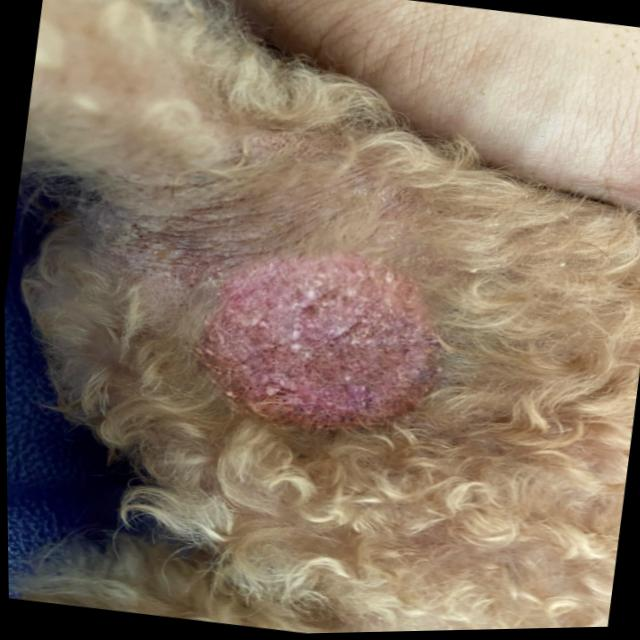ringworm: (186, 229, 502, 502)
